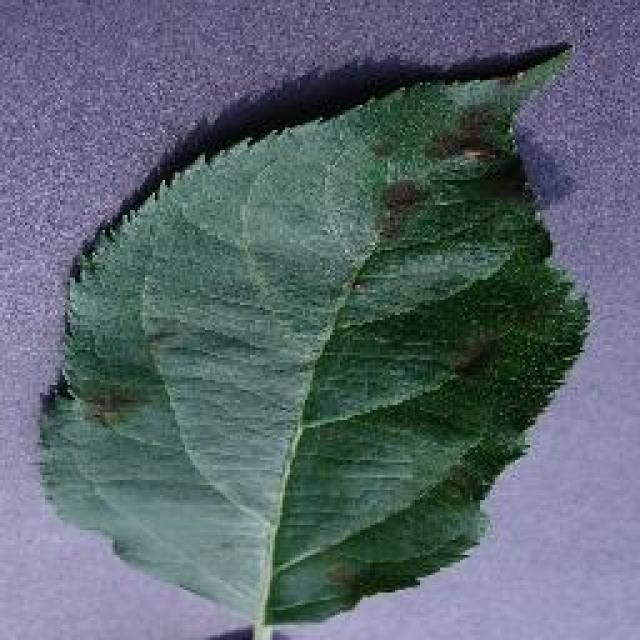apple scab disease: (35, 38, 593, 638)
